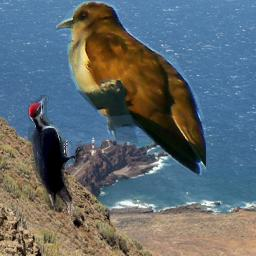Cuckoo: (56, 1, 206, 178)
Woodpecker: (28, 95, 84, 216)
